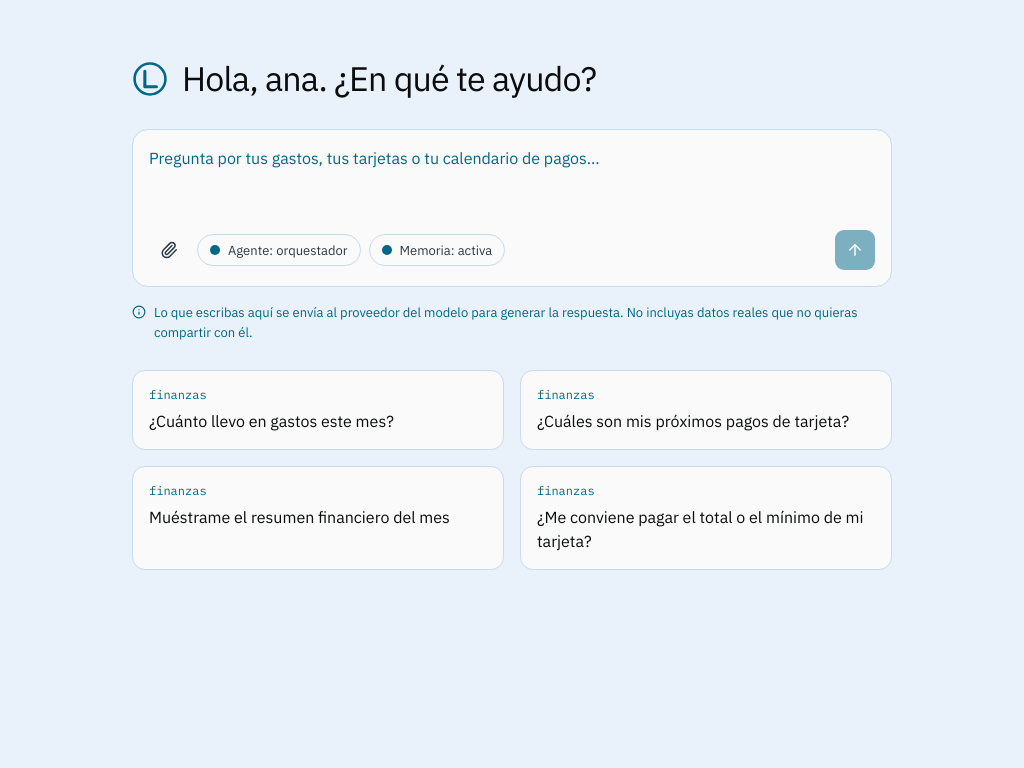
Test: ChatPage · enviar un mensaje › si el envío falla ofrece Reintentar, que reenvía el mismo texto sin duplicar el mensaje
Step 1. Replace the text in the text box named "Mensaje para Lara" with "¿Cuánto gasté?" → [512, 182], box [149,146,875,218]
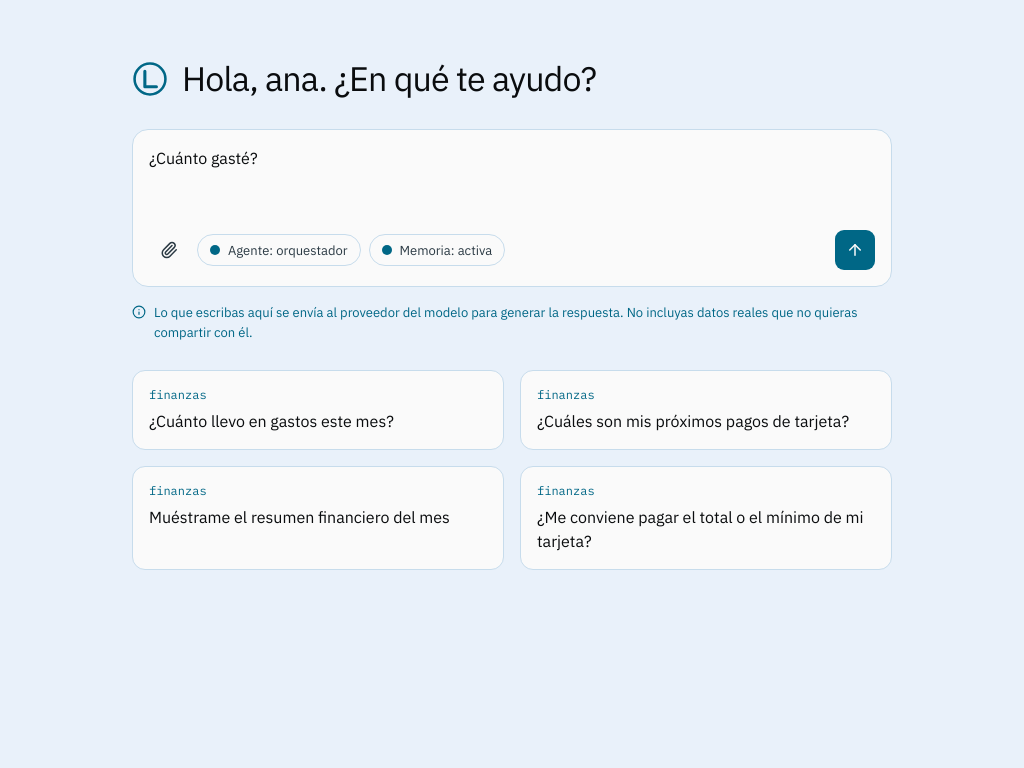
Step 2. Click the button named "Enviar" → [855, 250], box [835,230,875,270]
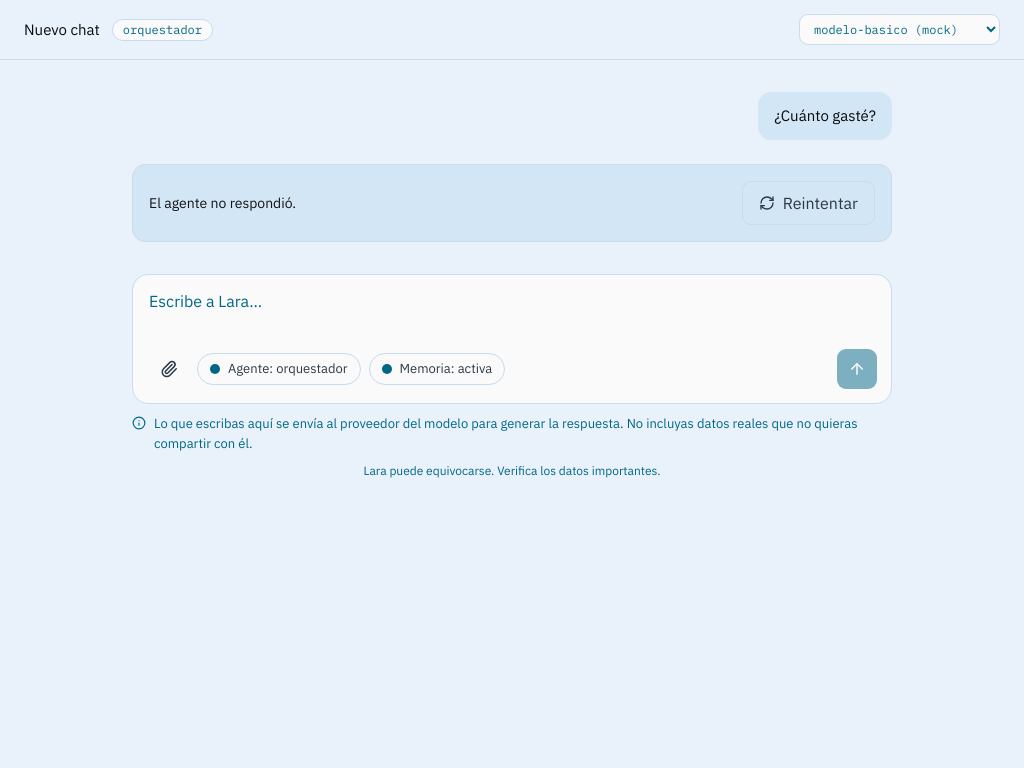
expect the message reads "El agente no respondió.": met, box [149,194,296,212]
Step 3. Click the button "Reintentar" → [808, 203], box [742,181,875,225]
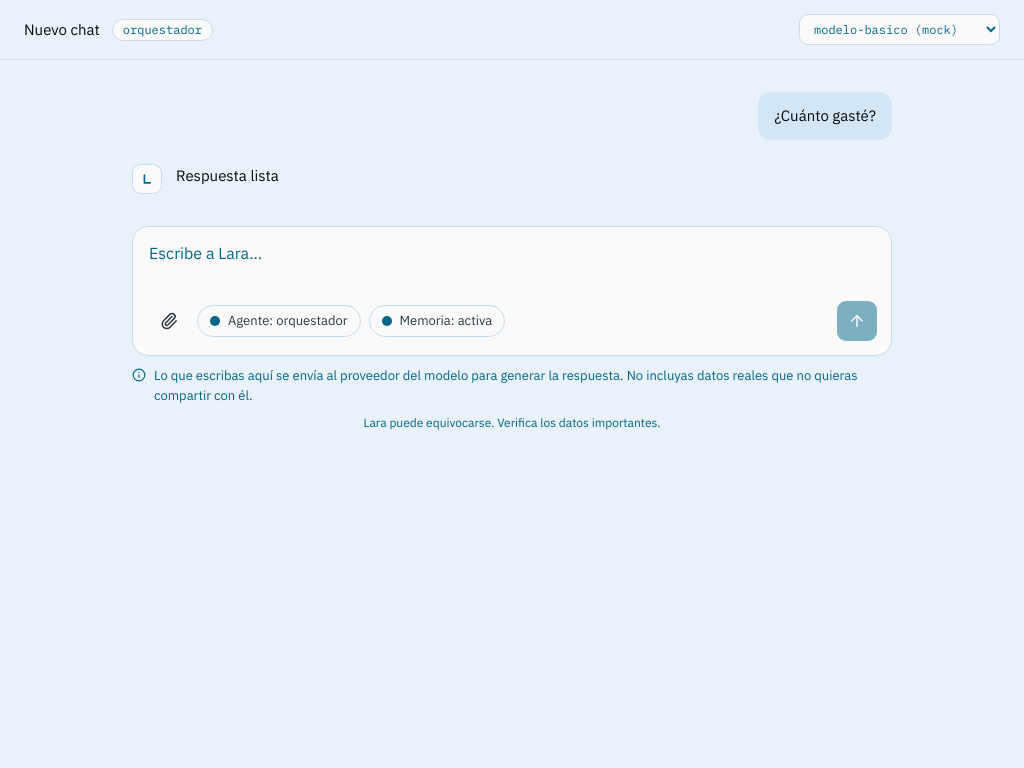
expect the text "¿Cuánto gasté?" is shown: met, box [774,104,876,128]
expect the text "Respuesta lista" is shown: met, box [176,164,279,188]
expect the message "El agente no respondió." is gone: met
